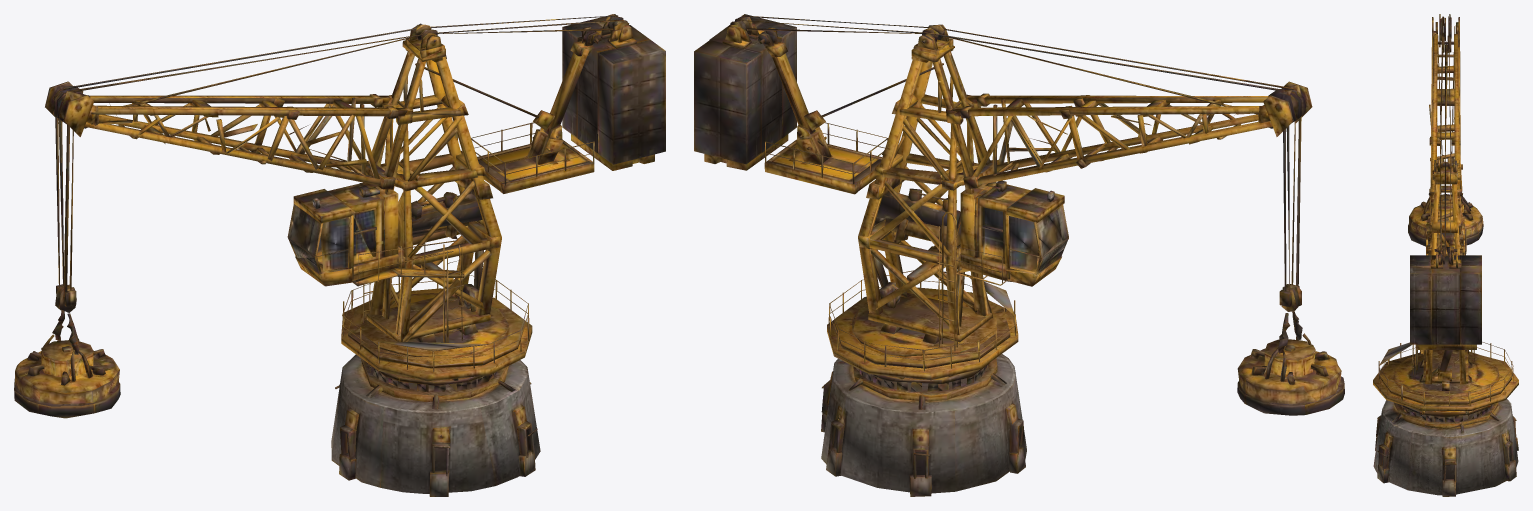
File: junkyard_scrap_crane.glb
The picture shows the model from 3 angles, left to right: view 1: azimuth 30°, elevation 25°; view 2: azimuth 150°, elevation 25°; view 3: azimuth 270°, elevation 25°; orthographic projection. The views are drawn at different scales.
Parts seen in each view (by area): view 1: Meshy_AI_junkyard_scrap_crane_3d_20261028_texture; view 2: Meshy_AI_junkyard_scrap_crane_3d_20261028_texture; view 3: Meshy_AI_junkyard_scrap_crane_3d_20261028_texture.
Part boxes in pixels (left/top/right/bottom): Meshy_AI_junkyard_scrap_crane_3d_20261028_texture: left=14, top=14, right=665, bottom=496; Meshy_AI_junkyard_scrap_crane_3d_20261028_texture: left=694, top=14, right=1344, bottom=496; Meshy_AI_junkyard_scrap_crane_3d_20261028_texture: left=1373, top=14, right=1518, bottom=496.
Bounding box in the file's own units: 15.98 × 11.2 × 4.61.
Materials: 1 (1 with a texture image).
